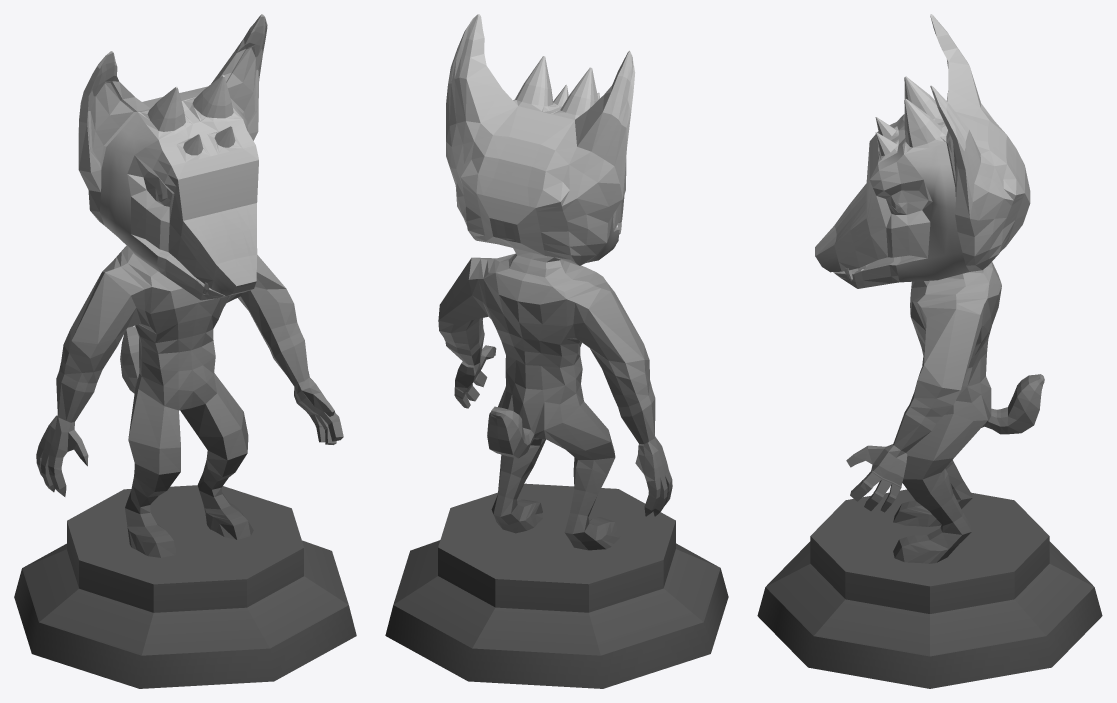
File: wolfStatue.FBX
The picture shows the model from 3 angles, left to right: view 1: azimuth 30°, elevation 25°; view 2: azimuth 150°, elevation 25°; view 3: azimuth 270°, elevation 25°; orthographic projection. The views are drawn at different scales.
Parts seen in each view (by area): view 1: Cylinder062; view 2: Cylinder062; view 3: Cylinder062.
Part boxes in pixels (x1,y1,x2,y2): Cylinder062: (14,14,356,688); Cylinder062: (385,14,728,688); Cylinder062: (757,14,1102,688).
Size of the model in its own units: 27.1 by 49.13 by 27.1.
